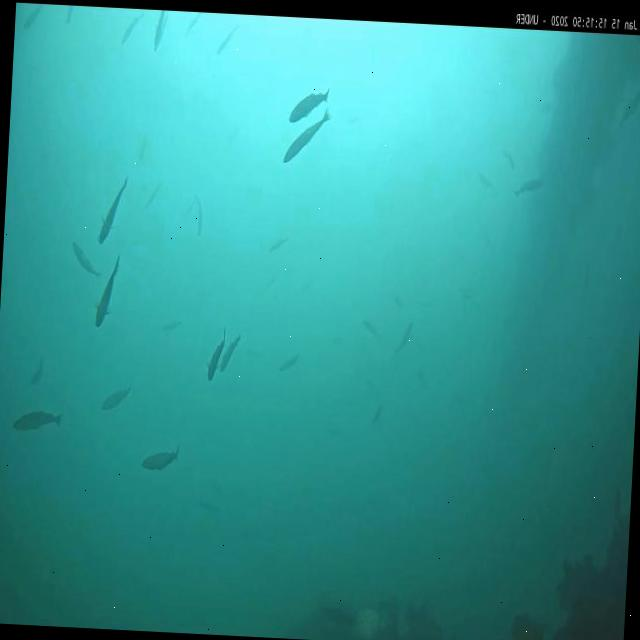fish: (282, 110, 330, 166), (97, 178, 129, 246), (94, 258, 119, 326), (289, 90, 330, 126), (12, 409, 64, 435), (139, 441, 178, 473), (69, 242, 102, 276), (206, 328, 226, 382), (219, 334, 241, 376), (102, 385, 130, 414), (618, 89, 640, 125), (121, 13, 144, 42), (515, 174, 545, 196), (216, 27, 237, 54), (196, 496, 222, 515), (398, 322, 413, 354), (25, 3, 42, 30), (278, 354, 300, 374), (153, 13, 165, 49), (30, 360, 46, 386), (269, 232, 288, 252), (146, 182, 160, 206), (362, 319, 379, 338), (476, 174, 496, 188), (502, 147, 514, 169), (197, 198, 204, 234), (185, 16, 199, 34), (159, 15, 168, 42), (140, 132, 148, 160), (162, 320, 180, 331), (66, 11, 72, 24)
